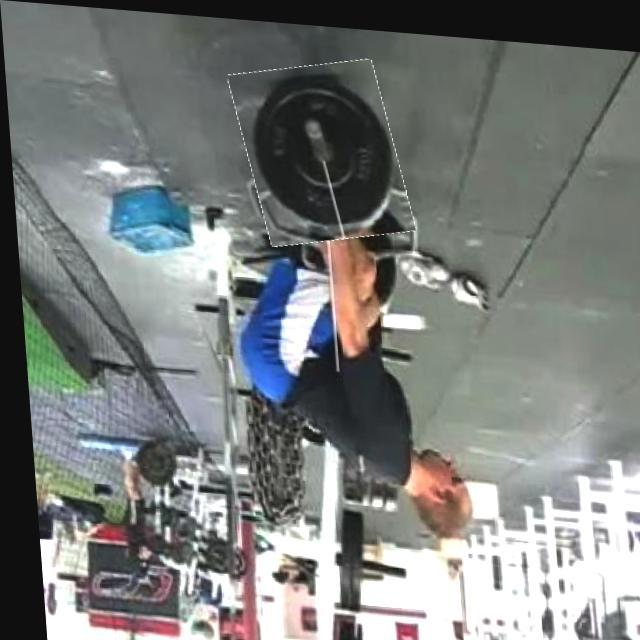barbell: (234, 50, 408, 246)
